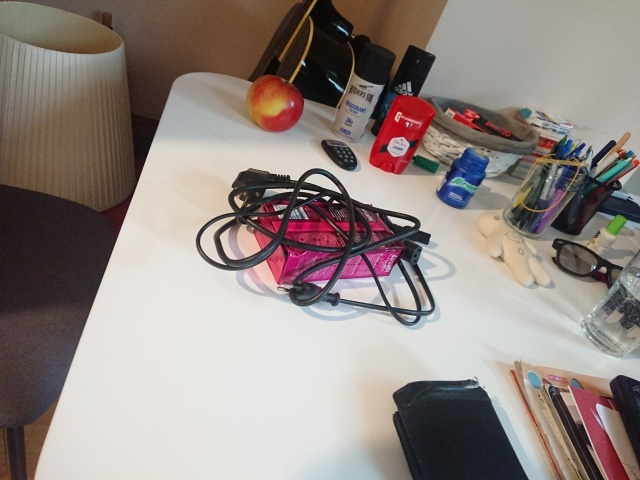Barcaffe Classic Original 225g: (252, 198, 405, 288)
